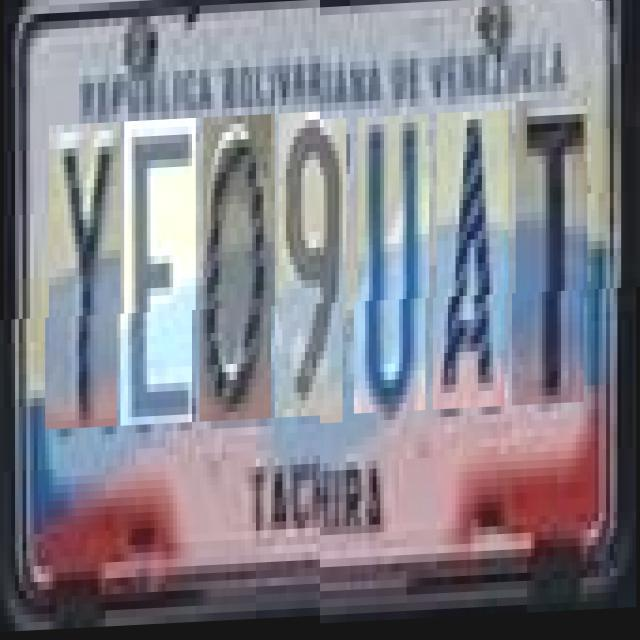9: (278, 122, 346, 429)
A: (436, 115, 508, 414)
E: (124, 128, 196, 435)
O: (203, 125, 275, 432)
T: (516, 104, 588, 411)
U: (358, 119, 430, 418)
Y: (48, 131, 120, 438)
